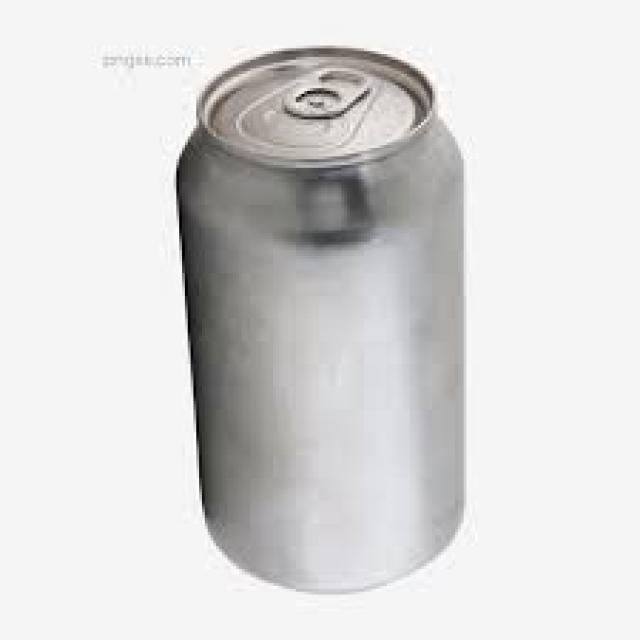recyclable: (171, 47, 464, 594)
